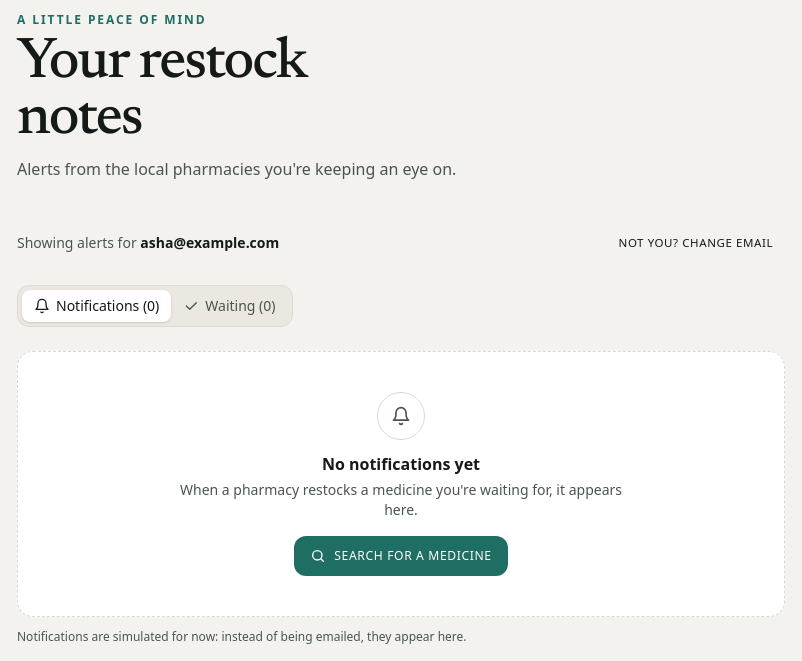
NotificationsPage with an email › 'Not you?' forgets the email on this device and goes back to asking
Click the button "Not you? Change email": coordinates (696, 243) [607, 225, 785, 261]
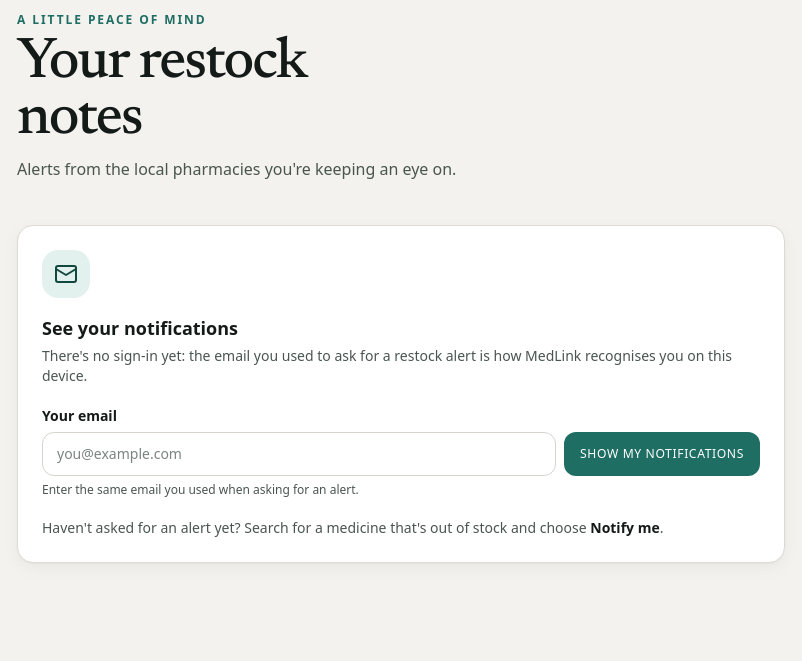
expect the heading "See your notifications" is shown: met, box [42, 316, 238, 340]
